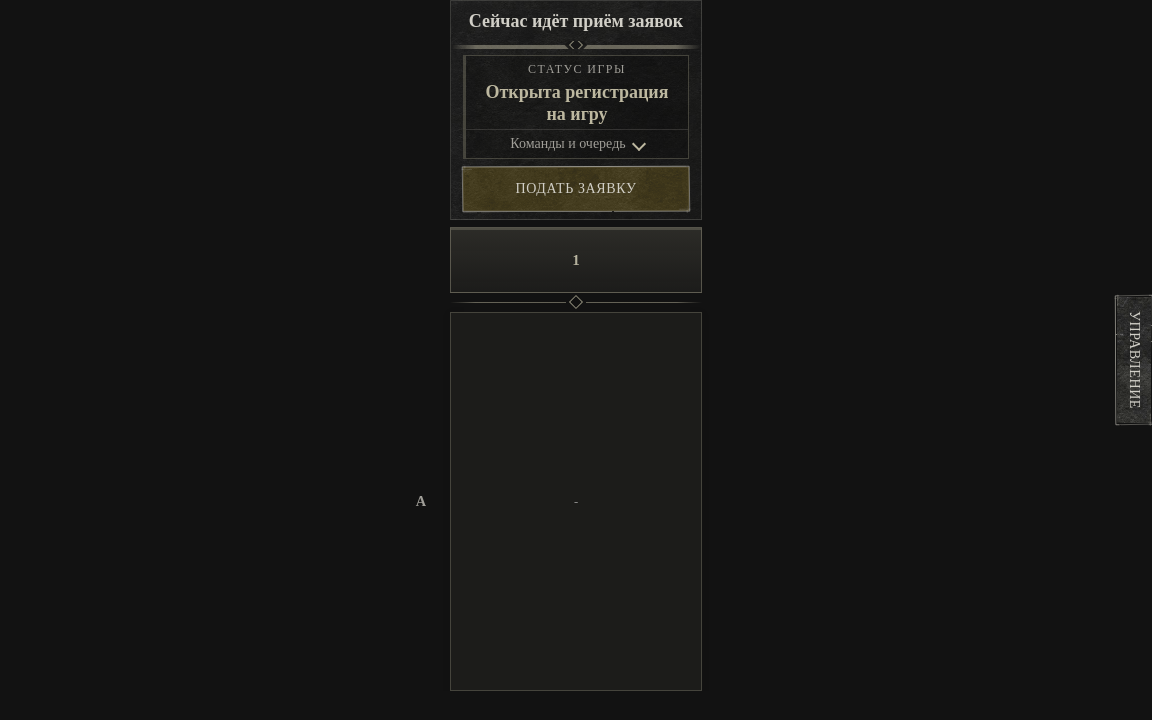
Test: GameBoardPage › shows management status without launch action for moderators
Click the button with aria-label "Управление игрой" at (1134, 360), box [1116,296,1151,424]
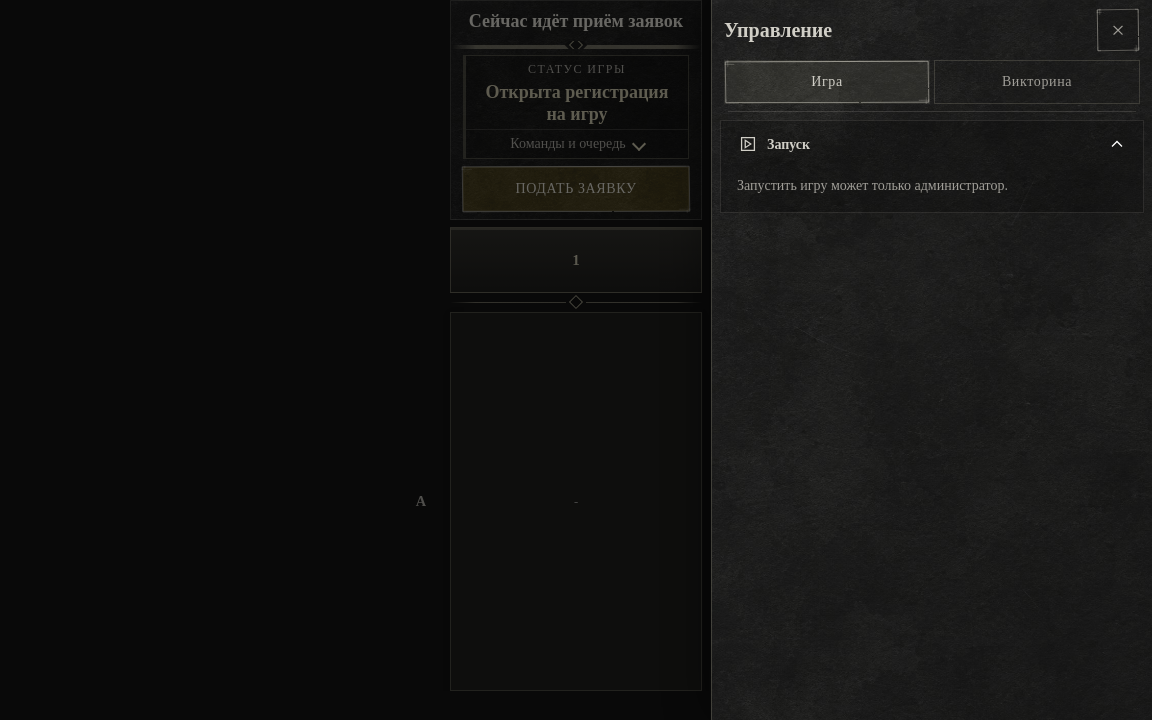
Now the element named "Инструменты управления игрой" is shown, box [720,8,1144,213]
Now the text "Запустить игру может только администратор." is shown, box [737,178,1008,193]
